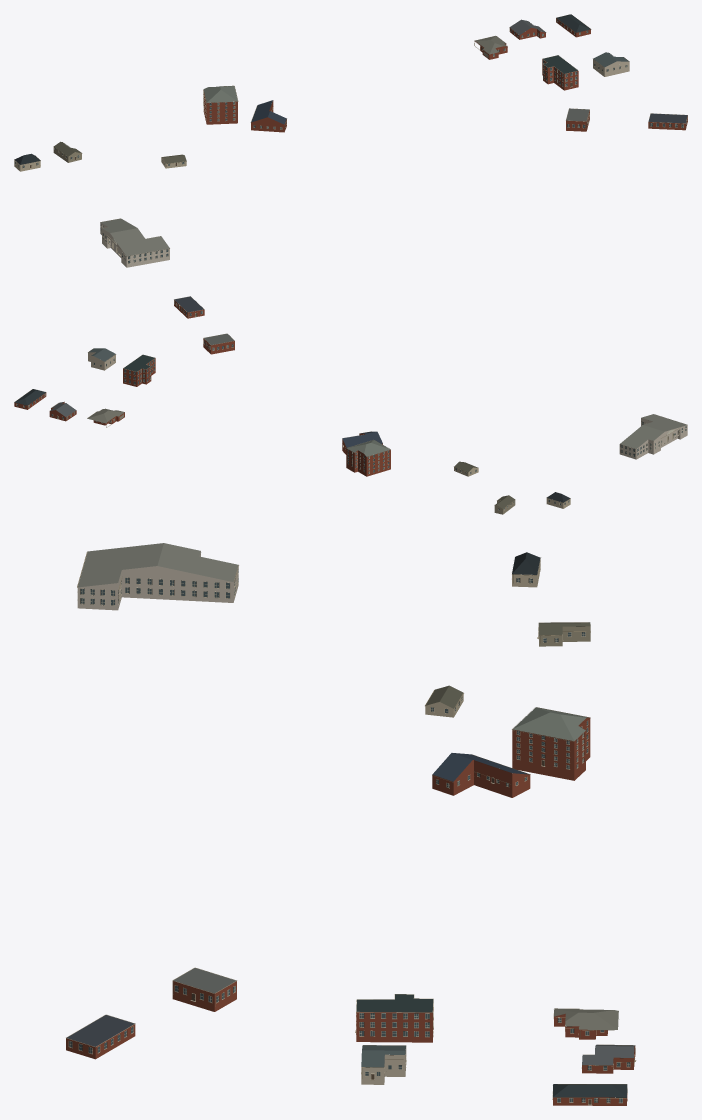
The picture shows the model from 3 angles, top to bottom: view 1: azimuth 30°, elevation 25°; view 2: azimuth 150°, elevation 25°; view 3: azimuth 270°, elevation 25°; orthographic projection. The views are drawn at different scales.
Visible parts, largest first — view 1: -3_-2_318286270_0, -3_-2_318522577_1, -3_-2_624482551_32; view 2: -3_-2_318286270_0, -3_-2_318522577_1; view 3: -3_-2_318286270_0, -3_-2_318522577_1, -3_-2_624482551_32.
Part boxes in pixels (x1,y1,x2,y2): -3_-2_318286270_0: [14, 14, 687, 267]; -3_-2_318522577_1: [203, 18, 687, 132]; -3_-2_624482551_32: [593, 59, 629, 76]; -3_-2_318286270_0: [14, 296, 687, 510]; -3_-2_318522577_1: [14, 300, 390, 476]; -3_-2_318286270_0: [66, 543, 636, 1105]; -3_-2_318522577_1: [66, 717, 635, 1105]; -3_-2_624482551_32: [361, 1047, 406, 1084].
Size of the model in its own units: 451 by 26.81 by 207.
